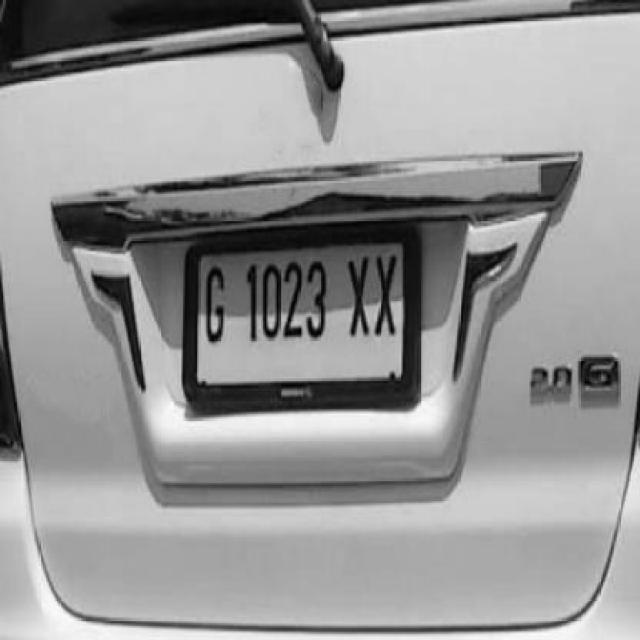0: (260, 258, 282, 344)
1: (240, 258, 262, 349)
2: (280, 254, 302, 350)
3: (308, 261, 332, 342)
G: (192, 256, 232, 349)
X: (344, 252, 369, 338), (374, 253, 394, 337)
